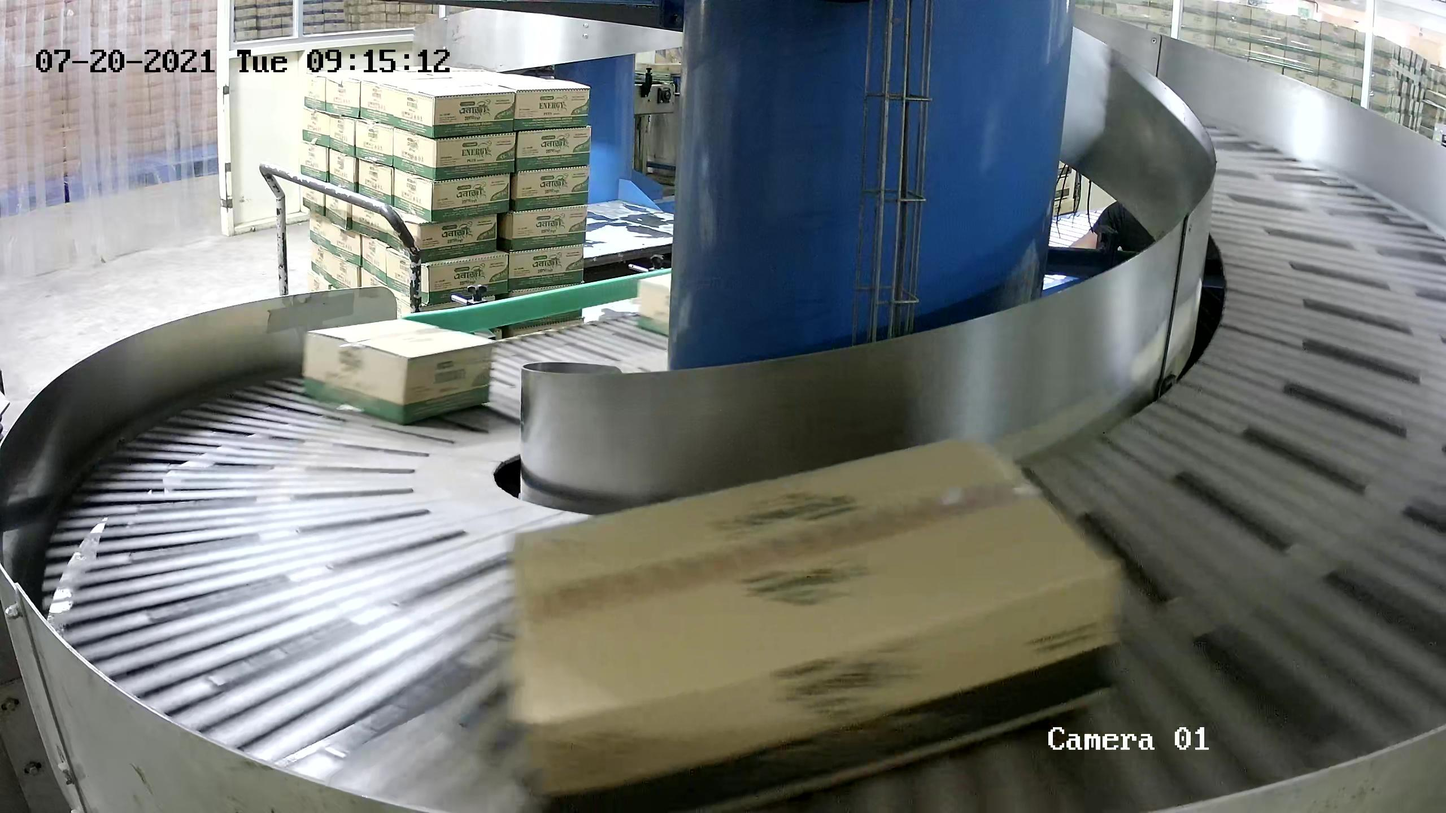Box: (508, 431, 1125, 813), (301, 318, 496, 425), (637, 272, 672, 336)
